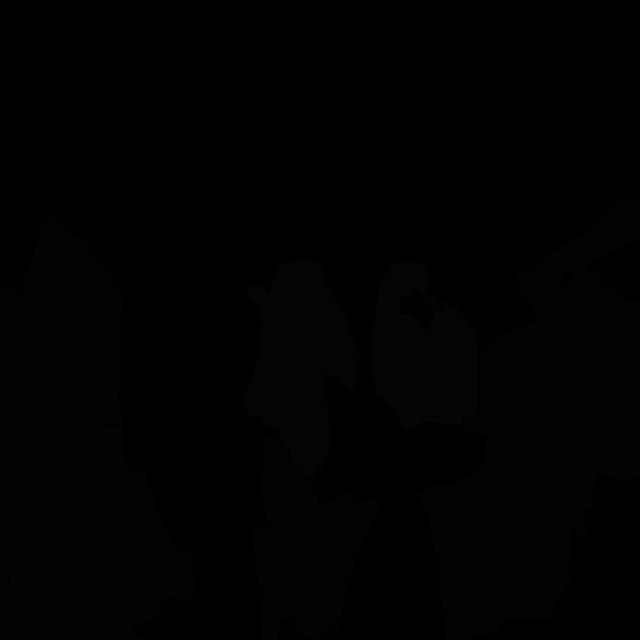cardboard: (0, 285, 158, 593), (458, 270, 640, 537), (412, 392, 574, 640), (252, 436, 383, 640), (0, 508, 198, 640), (22, 214, 124, 426), (516, 198, 640, 313), (622, 443, 640, 481)
soft_plastic: (242, 259, 358, 477), (370, 260, 478, 431)
